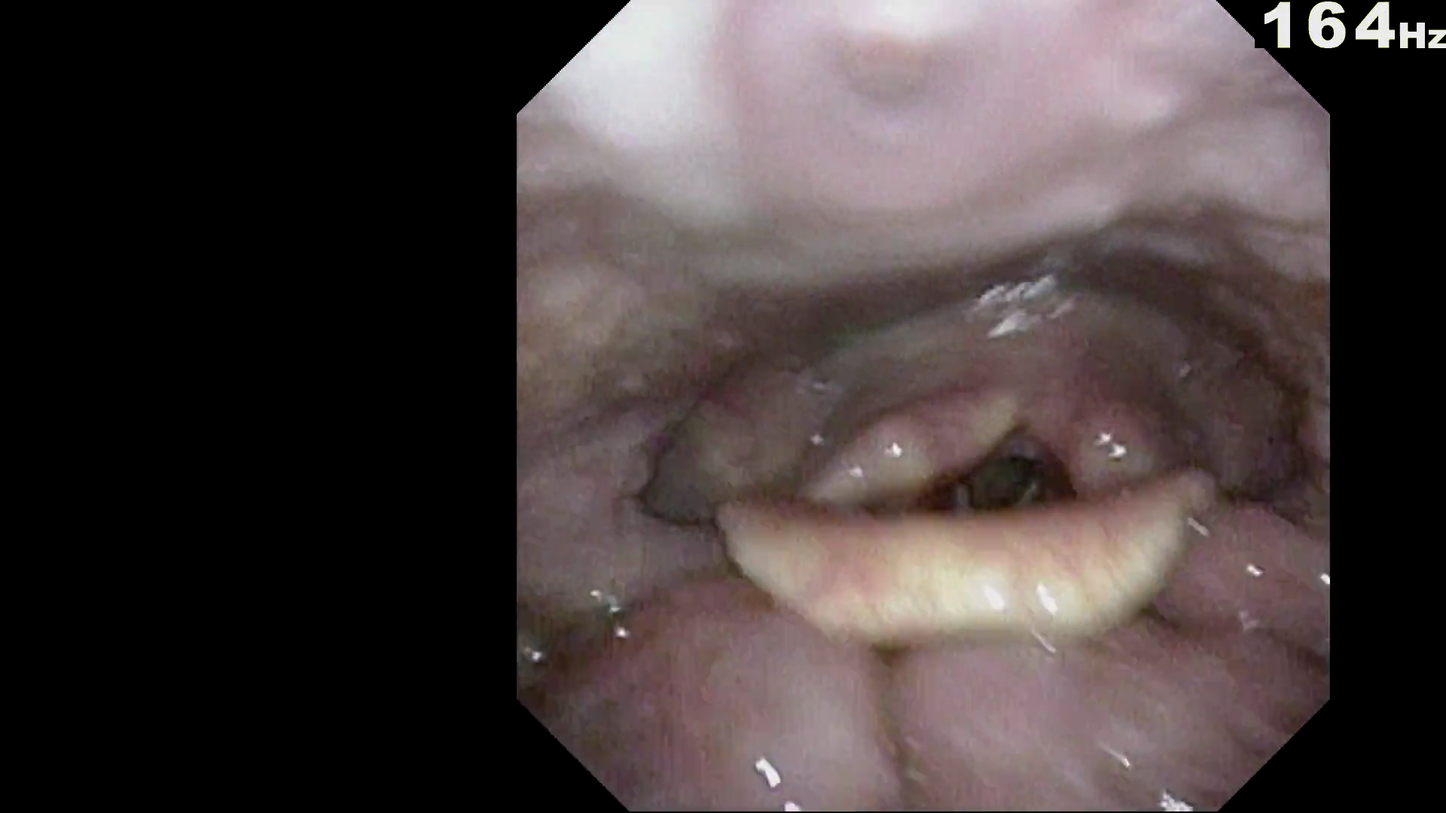epiglottis: (691, 413, 1175, 556)
